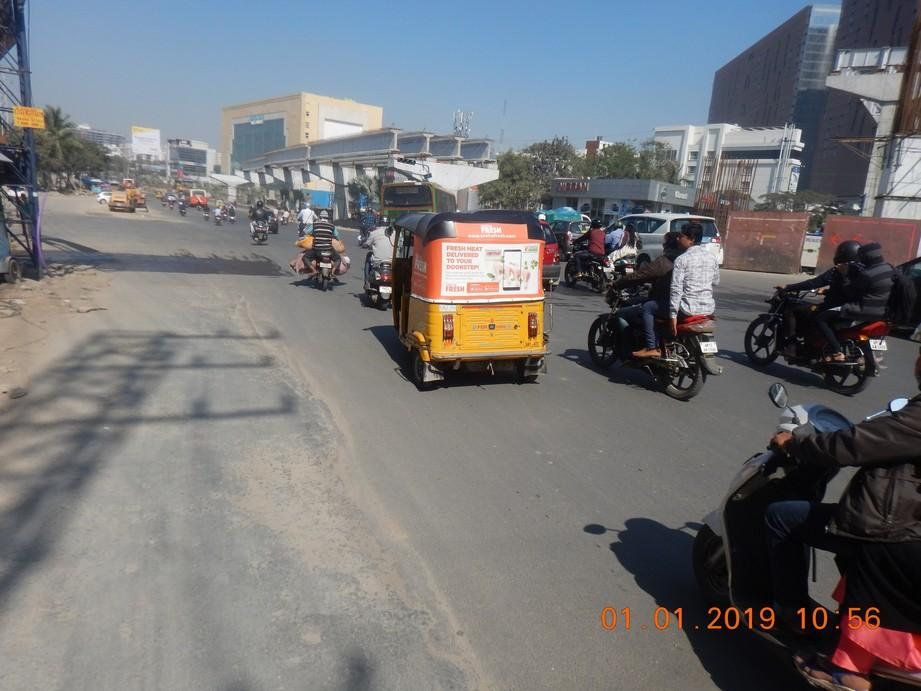plate: (699, 341, 719, 354)
